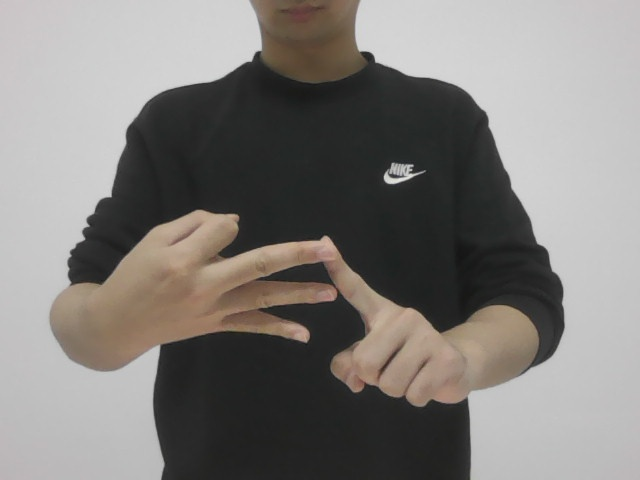name: (118, 203, 476, 423)
